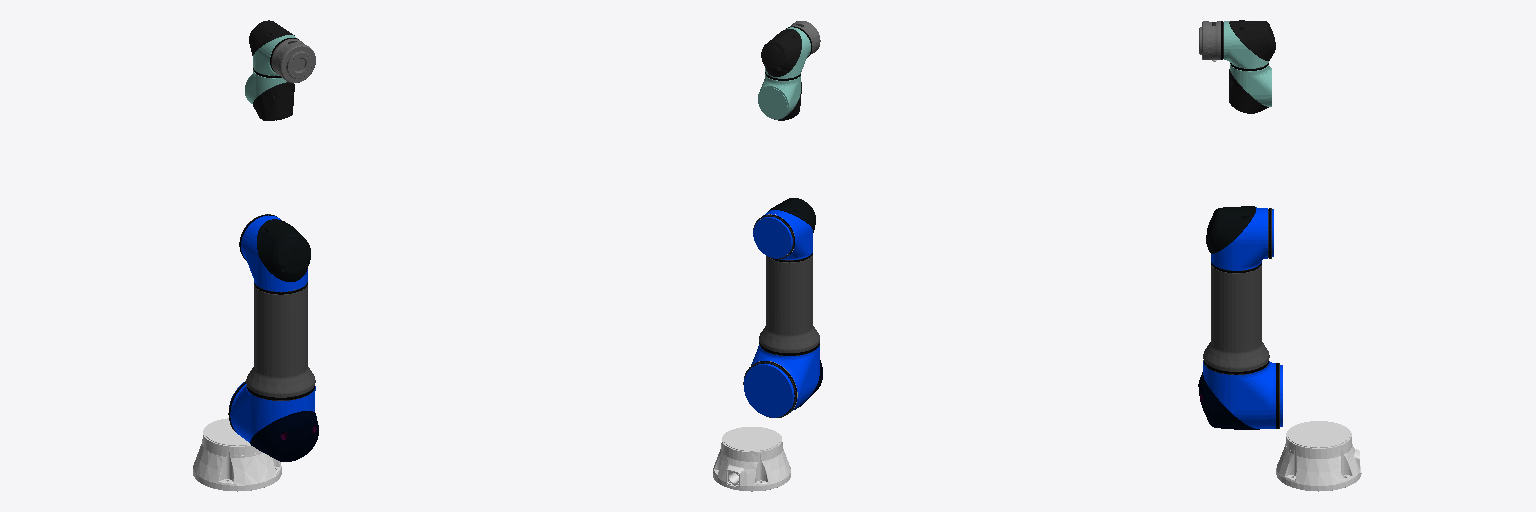
The robot description file, URDF, robot "rb16_900e":
<?xml version="1.0" ?>
<!-- =================================================================================== -->
<!-- |    This document was autogenerated by xacro from rb16_900e.urdf.xacro           | -->
<!-- |    EDITING THIS FILE BY HAND IS NOT RECOMMENDED                                 | -->
<!-- =================================================================================== -->
<robot name="rb16_900e">
  <link name="link0">
    <visual>
      <geometry>
        <mesh filename="package://rbpodo_description/meshes/rb16_900e/visual/link0.dae"/>
      </geometry>
    </visual>
    <collision>
      <geometry>
        <mesh filename="package://rbpodo_description/meshes/rb16_900e/collision/link0.stl"/>
      </geometry>
    </collision>
  </link>
  <link name="link1">
    <visual>
      <geometry>
        <mesh filename="package://rbpodo_description/meshes/rb16_900e/visual/link1.dae"/>
      </geometry>
    </visual>
    <collision>
      <geometry>
        <mesh filename="package://rbpodo_description/meshes/rb16_900e/collision/link1.stl"/>
      </geometry>
    </collision>
    <inertial>
      <origin rpy="0 0 0" xyz="0.00002146 -0.00785669 -0.04254277"/>
      <mass value="8.36480574"/>
      <inertia ixx="0.027396" ixy="-5.93e-06" ixz="-1.012e-05" iyy="0.02776248" iyz="0.00302947" izz="0.02613526"/>
    </inertial>
  </link>
  <link name="link2">
    <visual>
      <geometry>
        <mesh filename="package://rbpodo_description/meshes/rb16_900e/visual/link2.dae"/>
      </geometry>
    </visual>
    <collision>
      <geometry>
        <mesh filename="package://rbpodo_description/meshes/rb16_900e/collision/link2.stl"/>
      </geometry>
    </collision>
    <inertial>
      <origin rpy="0 0 0" xyz="-0.00001365 -0.15336597 0.14954192"/>
      <mass value="14.65108225"/>
      <inertia ixx="0.50968149" ixy="-1.346e-05" ixz="-5.604e-05" iyy="0.50447767" iyz="0.01549891" izz="0.0467351"/>
    </inertial>
  </link>
  <link name="link3">
    <visual>
      <geometry>
        <mesh filename="package://rbpodo_description/meshes/rb16_900e/visual/link3.dae"/>
      </geometry>
    </visual>
    <collision>
      <geometry>
        <mesh filename="package://rbpodo_description/meshes/rb16_900e/collision/link3.stl"/>
      </geometry>
    </collision>
    <inertial>
      <origin rpy="0 0 0" xyz="-0.00005454 0.13556427 0.21690278"/>
      <mass value="4.99600074"/>
      <inertia ixx="0.1196272" ixy="9.83e-06" ixz="2.67e-06" iyy="0.1190238" iyz="0.00299228" izz="0.00997462"/>
    </inertial>
  </link>
  <link name="link4">
    <visual>
      <geometry>
        <mesh filename="package://rbpodo_description/meshes/rb16_900e/visual/link4.dae"/>
      </geometry>
    </visual>
    <collision>
      <geometry>
        <mesh filename="package://rbpodo_description/meshes/rb16_900e/collision/link4.stl"/>
      </geometry>
    </collision>
    <inertial>
      <origin rpy="0 0 0" xyz="0.00009393 -0.11397578 0.02631456"/>
      <mass value="2.04897826"/>
      <inertia ixx="0.00268283" ixy="-8.03e-06" ixz="1.118e-05" iyy="0.00268757" iyz="0.0001404" izz="0.00213209"/>
    </inertial>
  </link>
  <link name="link5">
    <visual>
      <geometry>
        <mesh filename="package://rbpodo_description/meshes/rb16_900e/visual/link5.dae"/>
      </geometry>
    </visual>
    <collision>
      <geometry>
        <mesh filename="package://rbpodo_description/meshes/rb16_900e/collision/link5.stl"/>
      </geometry>
    </collision>
    <inertial>
      <origin rpy="0 0 0" xyz="-0.00009382 -0.02633944 0.11394822"/>
      <mass value="2.05100562"/>
      <inertia ixx="0.00268465" ixy="1.119e-05" ixz="-8.02e-06" iyy="0.00213501" iyz="0.00013799" izz="0.00269084"/>
    </inertial>
  </link>
  <link name="link6">
    <visual>
      <geometry>
        <mesh filename="package://rbpodo_description/meshes/rb16_900e/visual/link6.dae"/>
      </geometry>
    </visual>
    <collision>
      <geometry>
        <mesh filename="package://rbpodo_description/meshes/rb16_900e/collision/link6.stl"/>
      </geometry>
    </collision>
    <inertial>
      <origin rpy="0 0 0" xyz="-0.00020973 -0.09253967 -0.00029237"/>
      <mass value="0.40590103"/>
      <inertia ixx="0.00034531" ixy="5.7e-07" ixz="6.6e-07" iyy="0.00053287" iyz="-5e-08" izz="0.00034002"/>
    </inertial>
  </link>
  <link name="tcp"/>
  <joint name="base" type="revolute">
    <origin rpy="0 0 0" xyz="0 0 0.197"/>
    <parent link="link0"/>
    <child link="link1"/>
    <axis xyz="0 0 1"/>
    <limit effort="10" lower="-3.14" upper="3.14" velocity="3.14"/>
  </joint>
  <joint name="shoulder" type="revolute">
    <origin rpy="0 0 0" xyz="0 -0.1875 0"/>
    <parent link="link1"/>
    <child link="link2"/>
    <axis xyz="0 1 0"/>
    <limit effort="10" lower="-3.14" upper="3.14" velocity="3.14"/>
  </joint>
  <joint name="elbow" type="revolute">
    <origin rpy="0 0 0" xyz="0 0 0.4127"/>
    <parent link="link2"/>
    <child link="link3"/>
    <axis xyz="0 1 0"/>
    <limit effort="10" lower="-3.14" upper="3.14" velocity="3.14"/>
  </joint>
  <joint name="wrist1" type="revolute">
    <origin rpy="0 0 0" xyz="0 0.1484 0.37015"/>
    <parent link="link3"/>
    <child link="link4"/>
    <axis xyz="0 1 0"/>
    <limit effort="10" lower="-3.14" upper="3.14" velocity="3.14"/>
  </joint>
  <joint name="wrist2" type="revolute">
    <origin rpy="0 0 0" xyz="0 -0.11715 0"/>
    <parent link="link4"/>
    <child link="link5"/>
    <axis xyz="0 0 1"/>
    <limit effort="10" lower="-3.14" upper="3.14" velocity="3.14"/>
  </joint>
  <joint name="wrist3" type="revolute">
    <origin rpy="0 0 0" xyz="0 0 0.11715"/>
    <parent link="link5"/>
    <child link="link6"/>
    <axis xyz="0 1 0"/>
    <limit effort="10" lower="-3.14" upper="3.14" velocity="3.14"/>
  </joint>
  <joint name="tcp_joint" type="fixed">
    <origin rpy="0 0 0" xyz="0 -0.1153 0"/>
    <parent link="link6"/>
    <child link="tcp"/>
  </joint>
  <ros2_control name="RBPodoHardwareInterface" type="system">
    <hardware>
      <plugin>mock_components/GenericSystem</plugin>
      <param name="mock_sensor_commands">False</param>
      <param name="state_following_offset">0.0</param>
    </hardware>
    <joint name="base">
      <param name="initial_position">0.0</param>
      <param name="torque_constant">1</param>
      <command_interface name="effort"/>
      <command_interface name="velocity"/>
      <command_interface name="position"/>
      <state_interface name="position"/>
      <state_interface name="effort"/>
    </joint>
    <joint name="shoulder">
      <param name="initial_position">0.0</param>
      <param name="torque_constant">1</param>
      <command_interface name="effort"/>
      <command_interface name="velocity"/>
      <command_interface name="position"/>
      <state_interface name="position"/>
      <state_interface name="effort"/>
    </joint>
    <joint name="elbow">
      <param name="initial_position">0.0</param>
      <param name="torque_constant">1</param>
      <command_interface name="effort"/>
      <command_interface name="velocity"/>
      <command_interface name="position"/>
      <state_interface name="position"/>
      <state_interface name="effort"/>
    </joint>
    <joint name="wrist1">
      <param name="initial_position">0.0</param>
      <param name="torque_constant">1</param>
      <command_interface name="effort"/>
      <command_interface name="velocity"/>
      <command_interface name="position"/>
      <state_interface name="position"/>
      <state_interface name="effort"/>
    </joint>
    <joint name="wrist2">
      <param name="initial_position">0.0</param>
      <param name="torque_constant">1</param>
      <command_interface name="effort"/>
      <command_interface name="velocity"/>
      <command_interface name="position"/>
      <state_interface name="position"/>
      <state_interface name="effort"/>
    </joint>
    <joint name="wrist3">
      <param name="initial_position">0.0</param>
      <param name="torque_constant">1</param>
      <command_interface name="effort"/>
      <command_interface name="velocity"/>
      <command_interface name="position"/>
      <state_interface name="position"/>
      <state_interface name="effort"/>
    </joint>
  </ros2_control>
</robot>

--- What the picture shows (computed from the rendered views, not written in the file) ---
3 views of the same robot in one strip: view 1: azimuth 30°, elevation 25°; view 2: azimuth 150°, elevation 25°; view 3: azimuth 270°, elevation 25° (orthographic).
Robot: rb16_900e — 8 links, 7 joints (6 revolute, 1 fixed); root link link0; default pose: every joint at zero.
Visible links, largest first — view 1: link2, link0, link4, link6, link5; view 2: link2, link0, link5, link4; view 3: link2, link0, link5, link4, link6.
Boxes of the visible links, x1,y1,x2,y2 form: link2: (228, 214, 318, 461); link0: (193, 418, 281, 491); link4: (245, 68, 294, 120); link6: (272, 39, 315, 82); link5: (249, 20, 298, 75); link2: (743, 198, 822, 417); link0: (713, 427, 790, 491); link5: (761, 26, 812, 78); link4: (758, 72, 801, 120); link2: (1198, 206, 1282, 429); link0: (1276, 421, 1361, 491); link5: (1221, 20, 1275, 68); link4: (1229, 63, 1271, 113); link6: (1199, 21, 1220, 61).
Size in the robot's own frame: 0.196 by 0.3745 by 1.14 metres.
5 mesh visuals loaded from 7 distinct referenced files (5 Collada DAE); not drawn: 2 (reference not matched to a file when rendering).